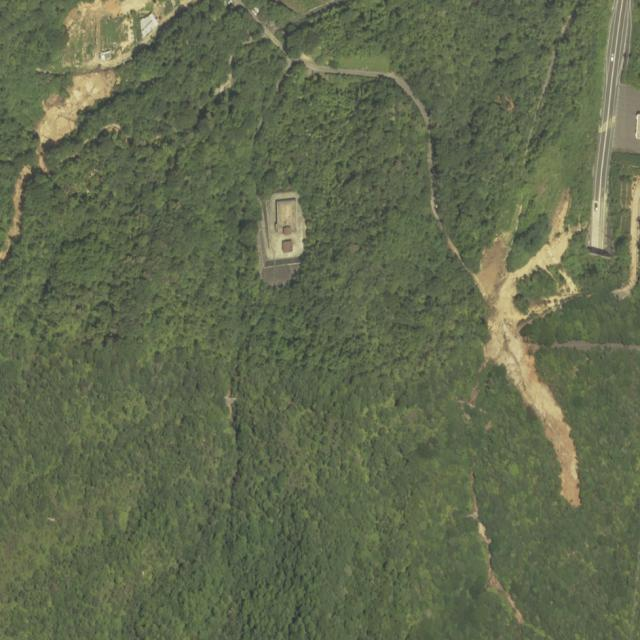landslide: (475, 191, 587, 507), (35, 69, 117, 143)
